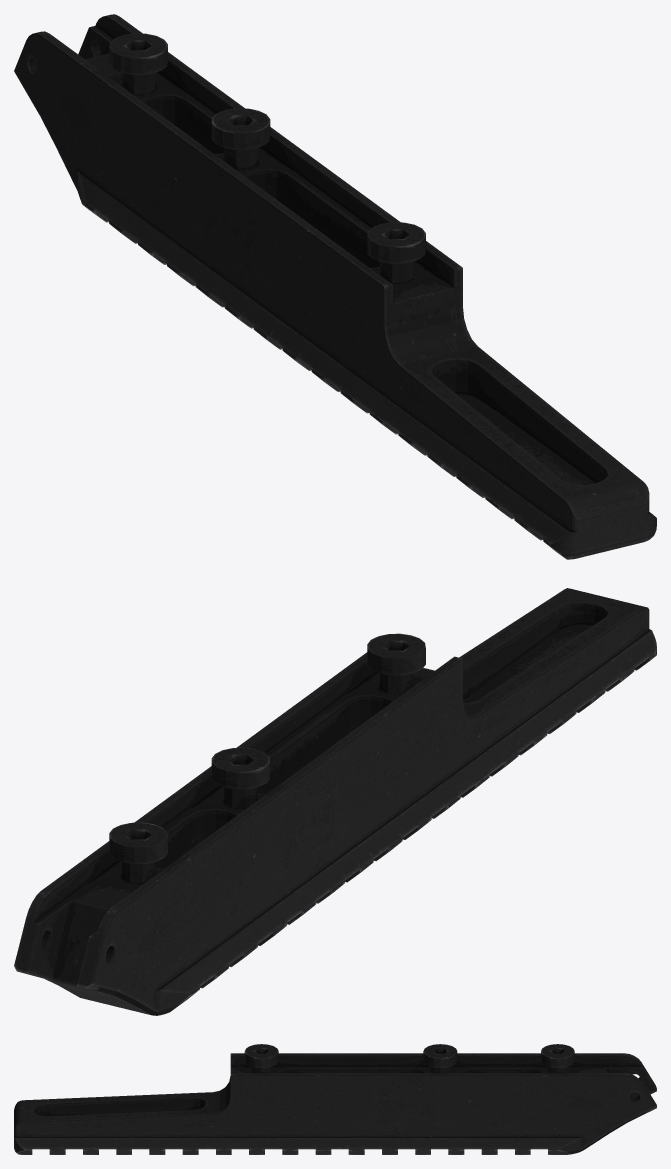
3 views of the same model, one above another, from view 1: azimuth 30°, elevation 25°; view 2: azimuth 150°, elevation 25°; view 3: azimuth 270°, elevation 25° (orthographic). The views are drawn at different scales.
Parts seen in each view (by area): view 1: TW_62e7c8f91cd3fde4d503d690_PZ_Import; view 2: TW_62e7c8f91cd3fde4d503d690_PZ_Import; view 3: TW_62e7c8f91cd3fde4d503d690_PZ_Import.
Boxes of the visible parts, x1,y1,x2,y2 form: TW_62e7c8f91cd3fde4d503d690_PZ_Import: (14,14,656,559); TW_62e7c8f91cd3fde4d503d690_PZ_Import: (14,588,656,1015); TW_62e7c8f91cd3fde4d503d690_PZ_Import: (14,1044,656,1154).
Bounding box in the file's own units: 0.0123 × 0.1119 × 0.0177.
1 material, 1 textured.
